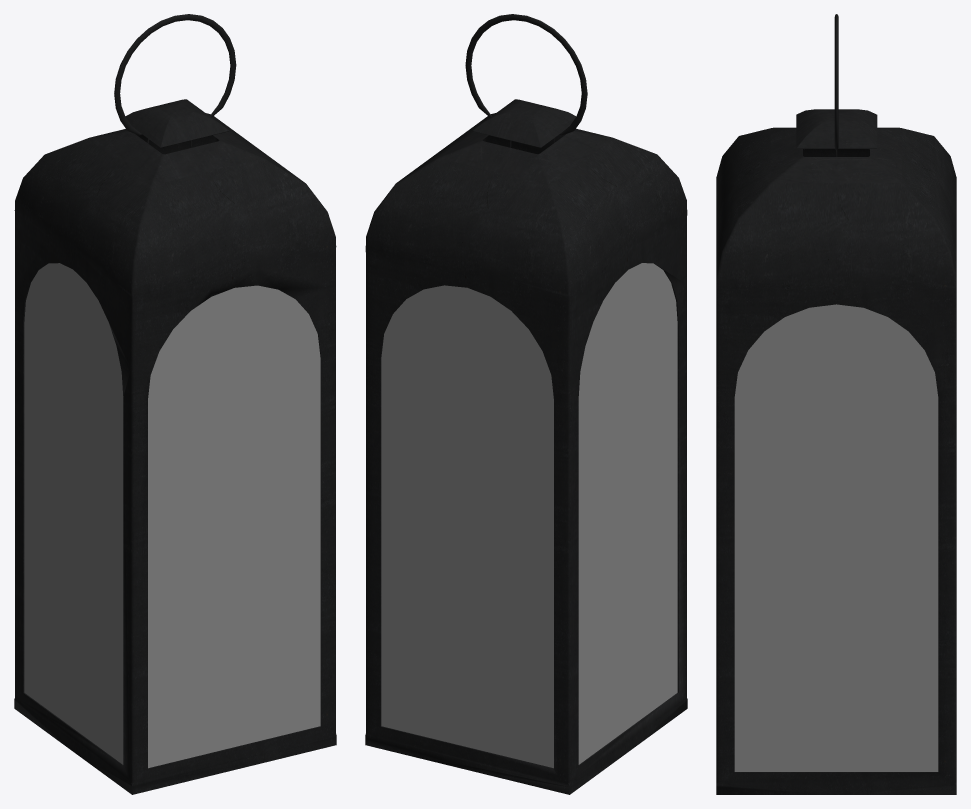
Rendered from Lantern 1.fbx.
3 renders of one model, left to right at view 1: azimuth 30°, elevation 25°; view 2: azimuth 150°, elevation 25°; view 3: azimuth 270°, elevation 25°, orthographic.
Visible parts, largest first — view 1: Lantern 1; view 2: Lantern 1; view 3: Lantern 1.
Part boxes in pixels (x1=…): Lantern 1: x1=14, y1=14, x2=336, y2=794; Lantern 1: x1=365, y1=14, x2=687, y2=794; Lantern 1: x1=716, y1=14, x2=956, y2=794.
Bounding box in the file's own units: 12.8 × 42.52 × 12.8.
Materials: 2 (1 with a texture image).
